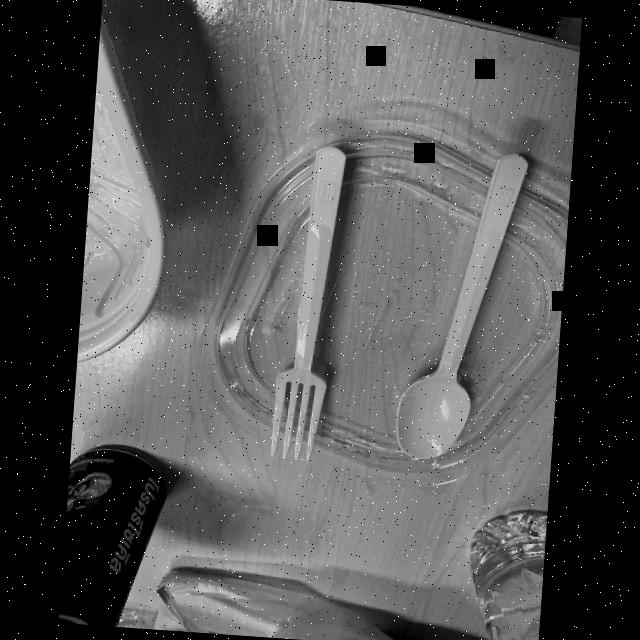plastic_spoon: (383, 138, 536, 471)
